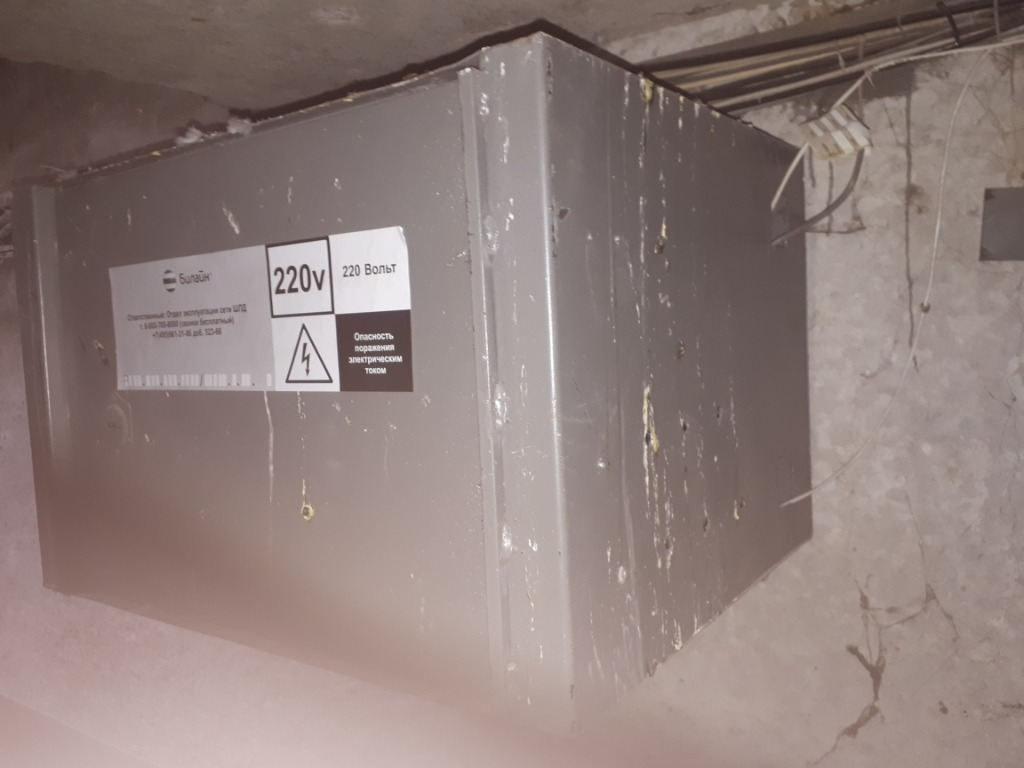e2-6u: (12, 24, 819, 744)
